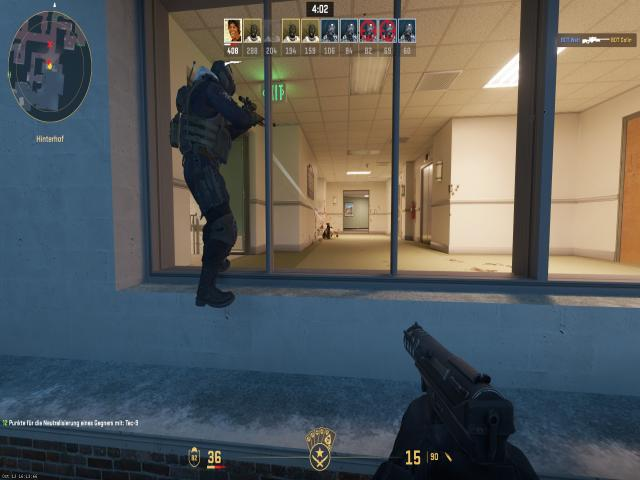CT: (178, 57, 248, 288)
CT-Head: (204, 61, 235, 97)
Dead: (321, 224, 338, 240)
